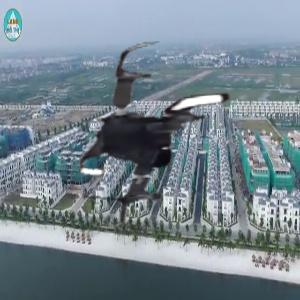drone: (59, 37, 264, 242)
